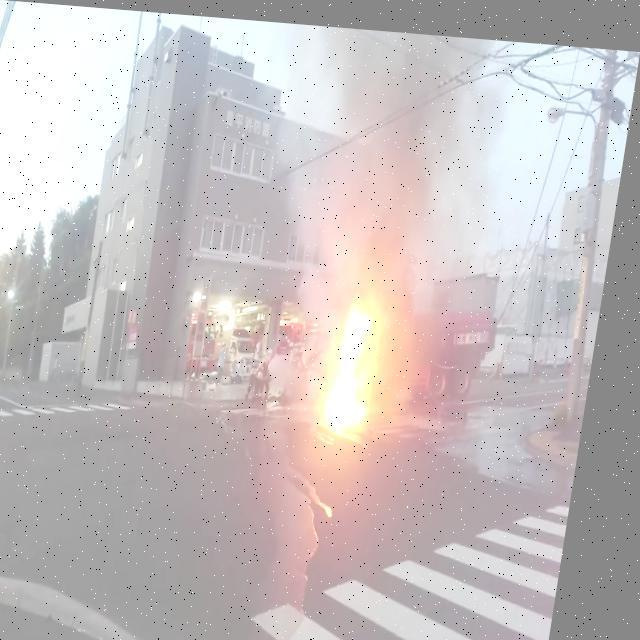Fire: (334, 294, 396, 418)
